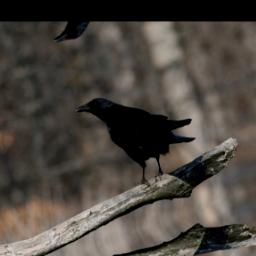Crow: (72, 67, 207, 204)
